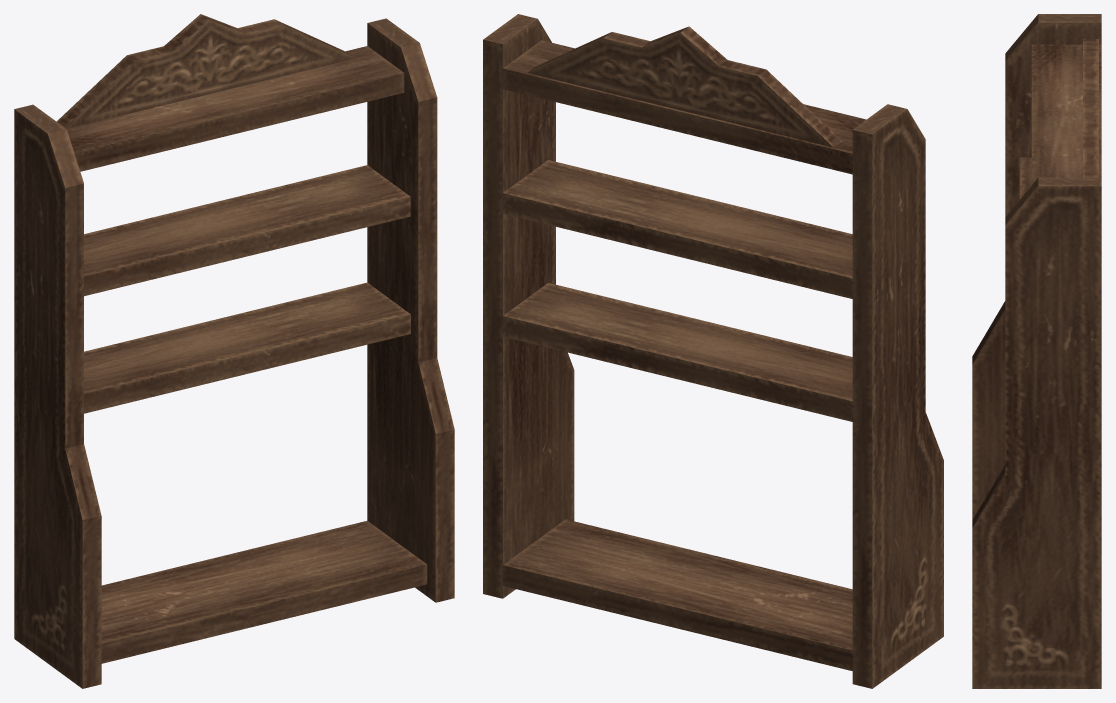
The model's file is Shelf_2.fbx.
The picture shows the model from 3 angles, left to right: view 1: azimuth 30°, elevation 25°; view 2: azimuth 150°, elevation 25°; view 3: azimuth 270°, elevation 25°; orthographic projection. The views are drawn at different scales.
Parts seen in each view (by area): view 1: Shelf_2; view 2: Shelf_2; view 3: Shelf_2.
Boxes of the visible parts, box(x1,y1,x2,y2) form: Shelf_2: box(14, 14, 454, 688); Shelf_2: box(483, 14, 943, 688); Shelf_2: box(972, 14, 1101, 688).
Bounding box in the file's own units: 76.72 × 114 × 24.4.
